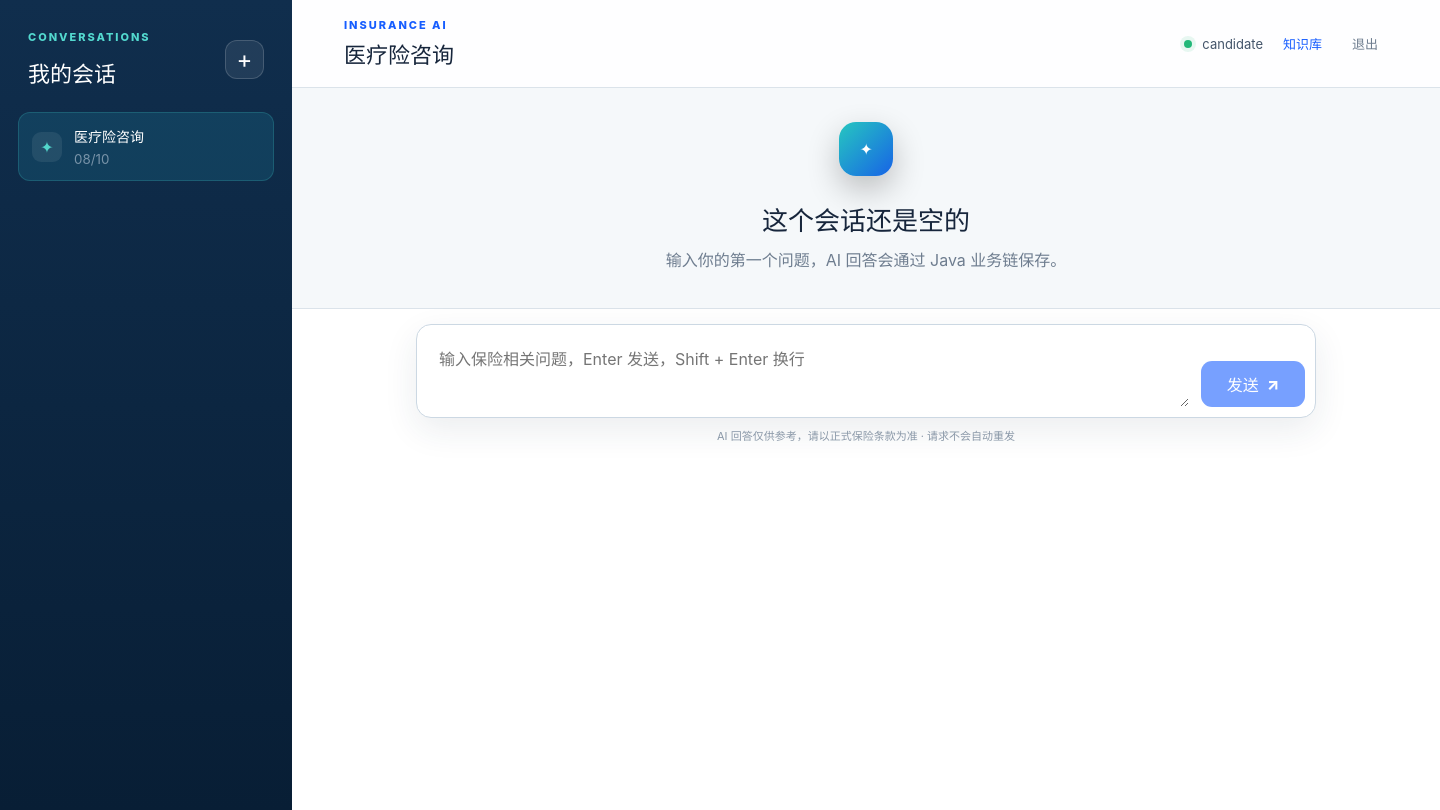
it: ChatView › blocks mechanical double submit while the synchronous chat is pending
In the text box with placeholder "输入保险相关问题，Enter 发送，Shift + Enter 换行": (808, 371) left=427, top=335, right=1189, bottom=407, type "等待期一般有多久？"
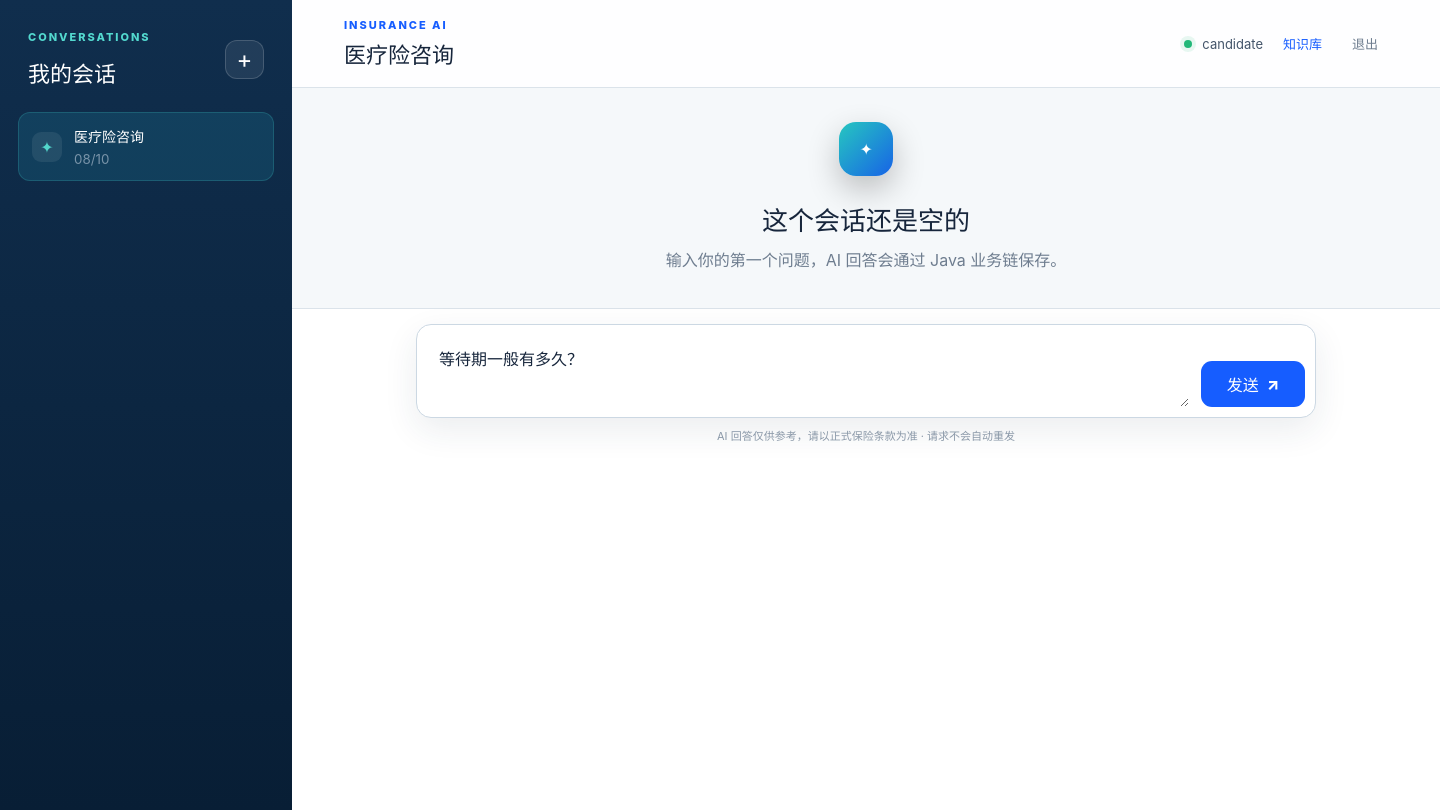
Submit the form with class "chat-composer", box left=416, top=324, right=1316, bottom=418
Submit the form with class "chat-composer", box left=416, top=324, right=1316, bottom=418
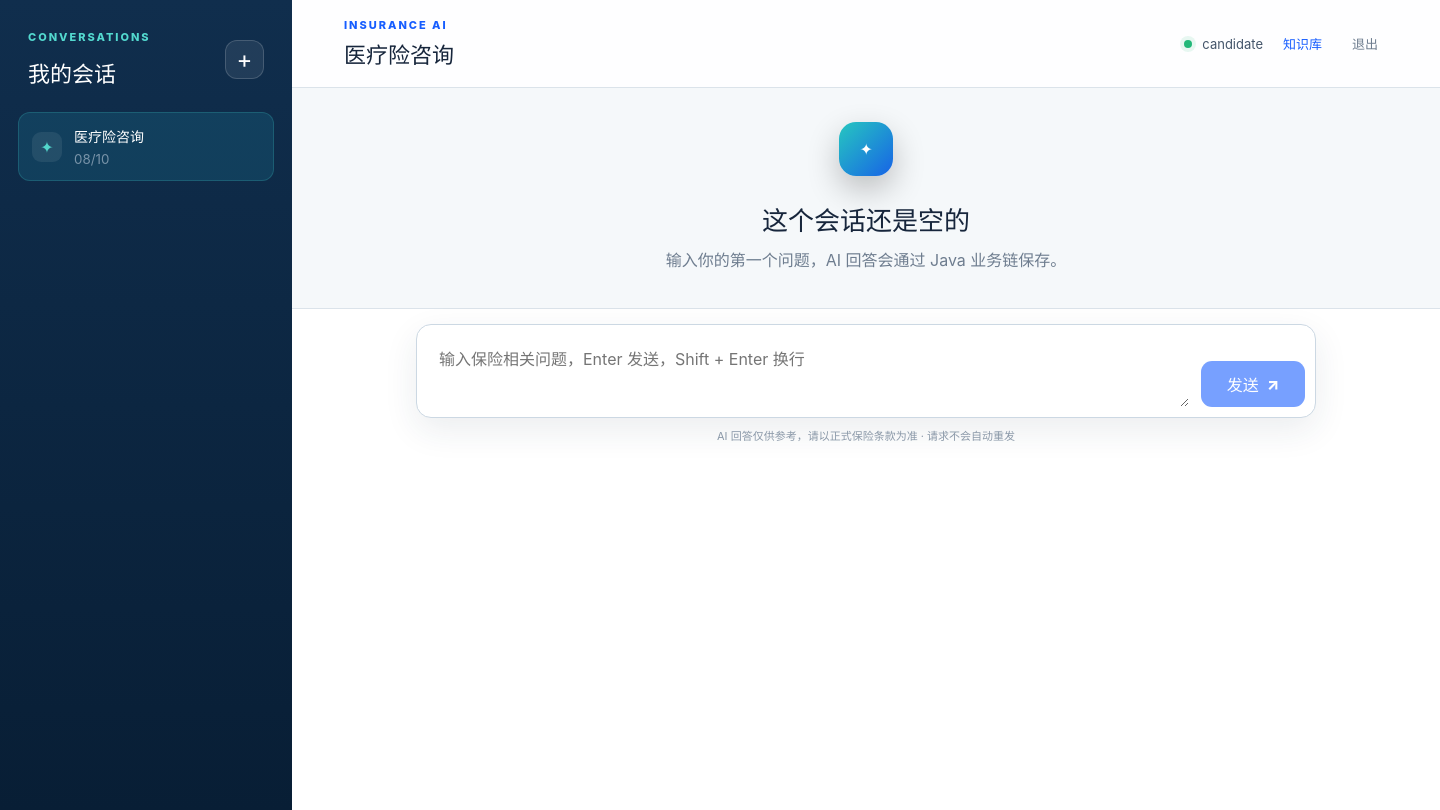
Check: the button with class "send-button" is disabled, box left=1201, top=361, right=1305, bottom=407
Check: the text box with placeholder "输入保险相关问题，Enter 发送，Shift + Enter 换行" is empty, box left=427, top=335, right=1189, bottom=407
